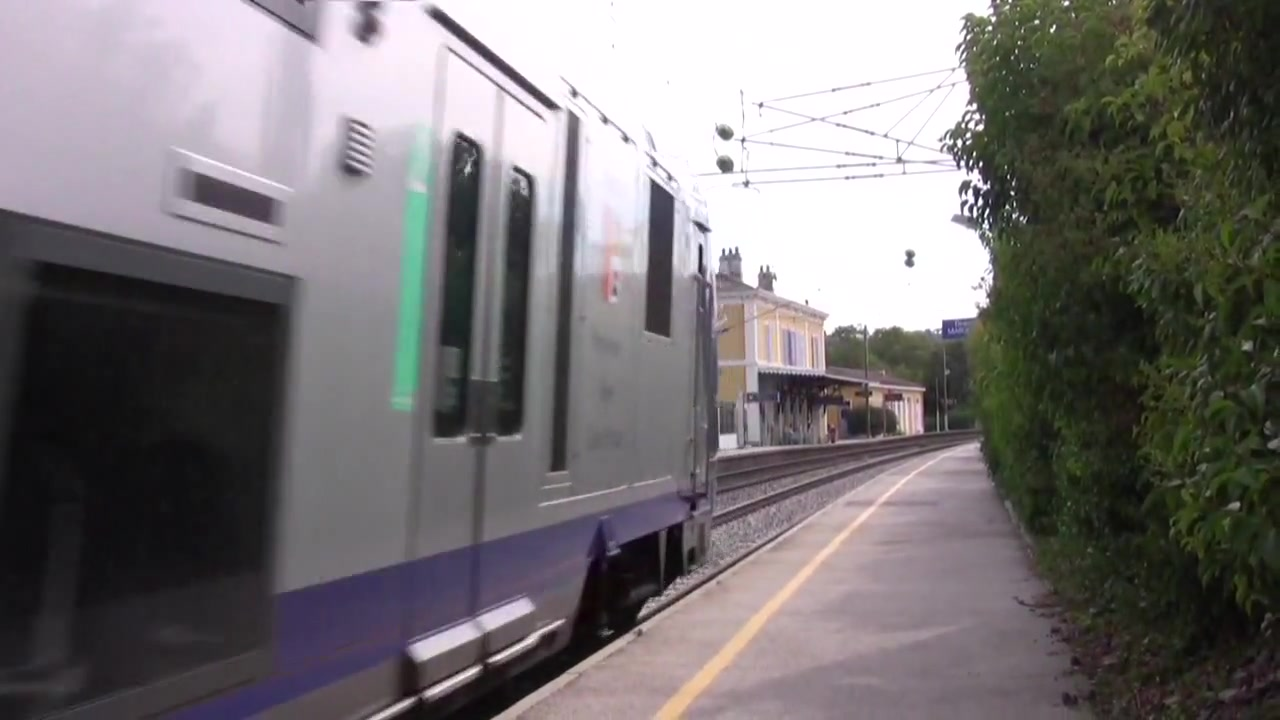train: (1, 1, 723, 720)
